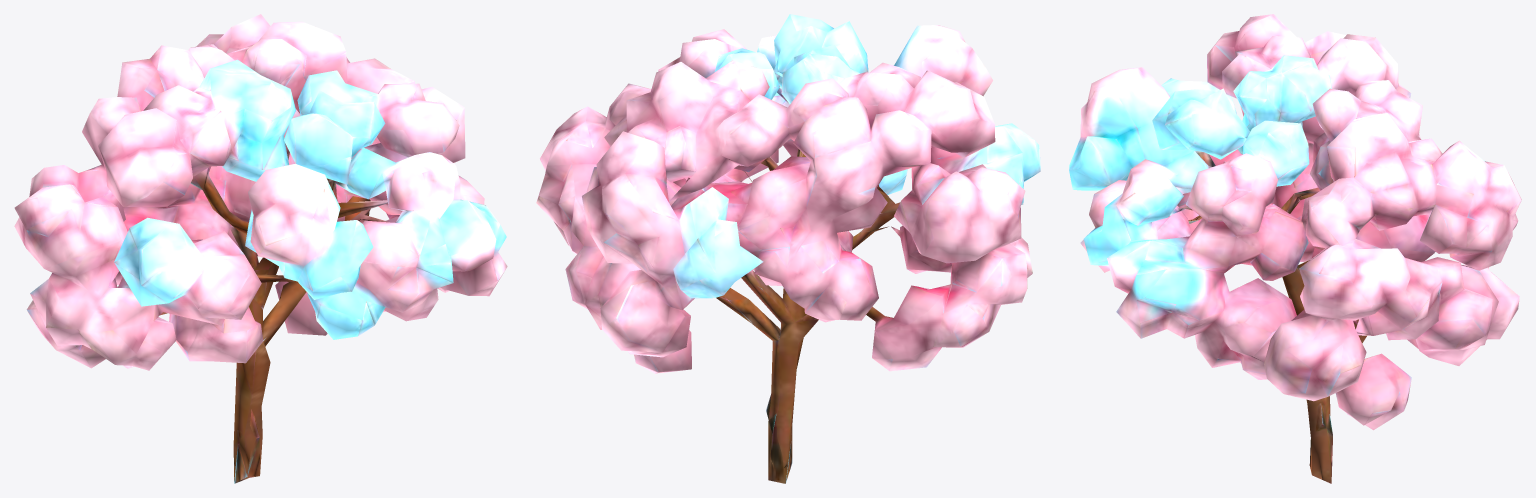
File: cotton_candy_tree.glb
3 renders of one model, left to right at view 1: azimuth 30°, elevation 25°; view 2: azimuth 150°, elevation 25°; view 3: azimuth 270°, elevation 25°, orthographic. The views are drawn at different scales.
Visible parts, largest first — view 1: Mesh_0; view 2: Mesh_0; view 3: Mesh_0.
Boxes of the visible parts, bbox=[...] form: Mesh_0: bbox=[14, 14, 507, 483]; Mesh_0: bbox=[536, 14, 1040, 483]; Mesh_0: bbox=[1069, 14, 1521, 483].
Bounding box in the file's own units: 1.91 × 1.74 × 1.73.
Materials: 1 (1 with a texture image).
